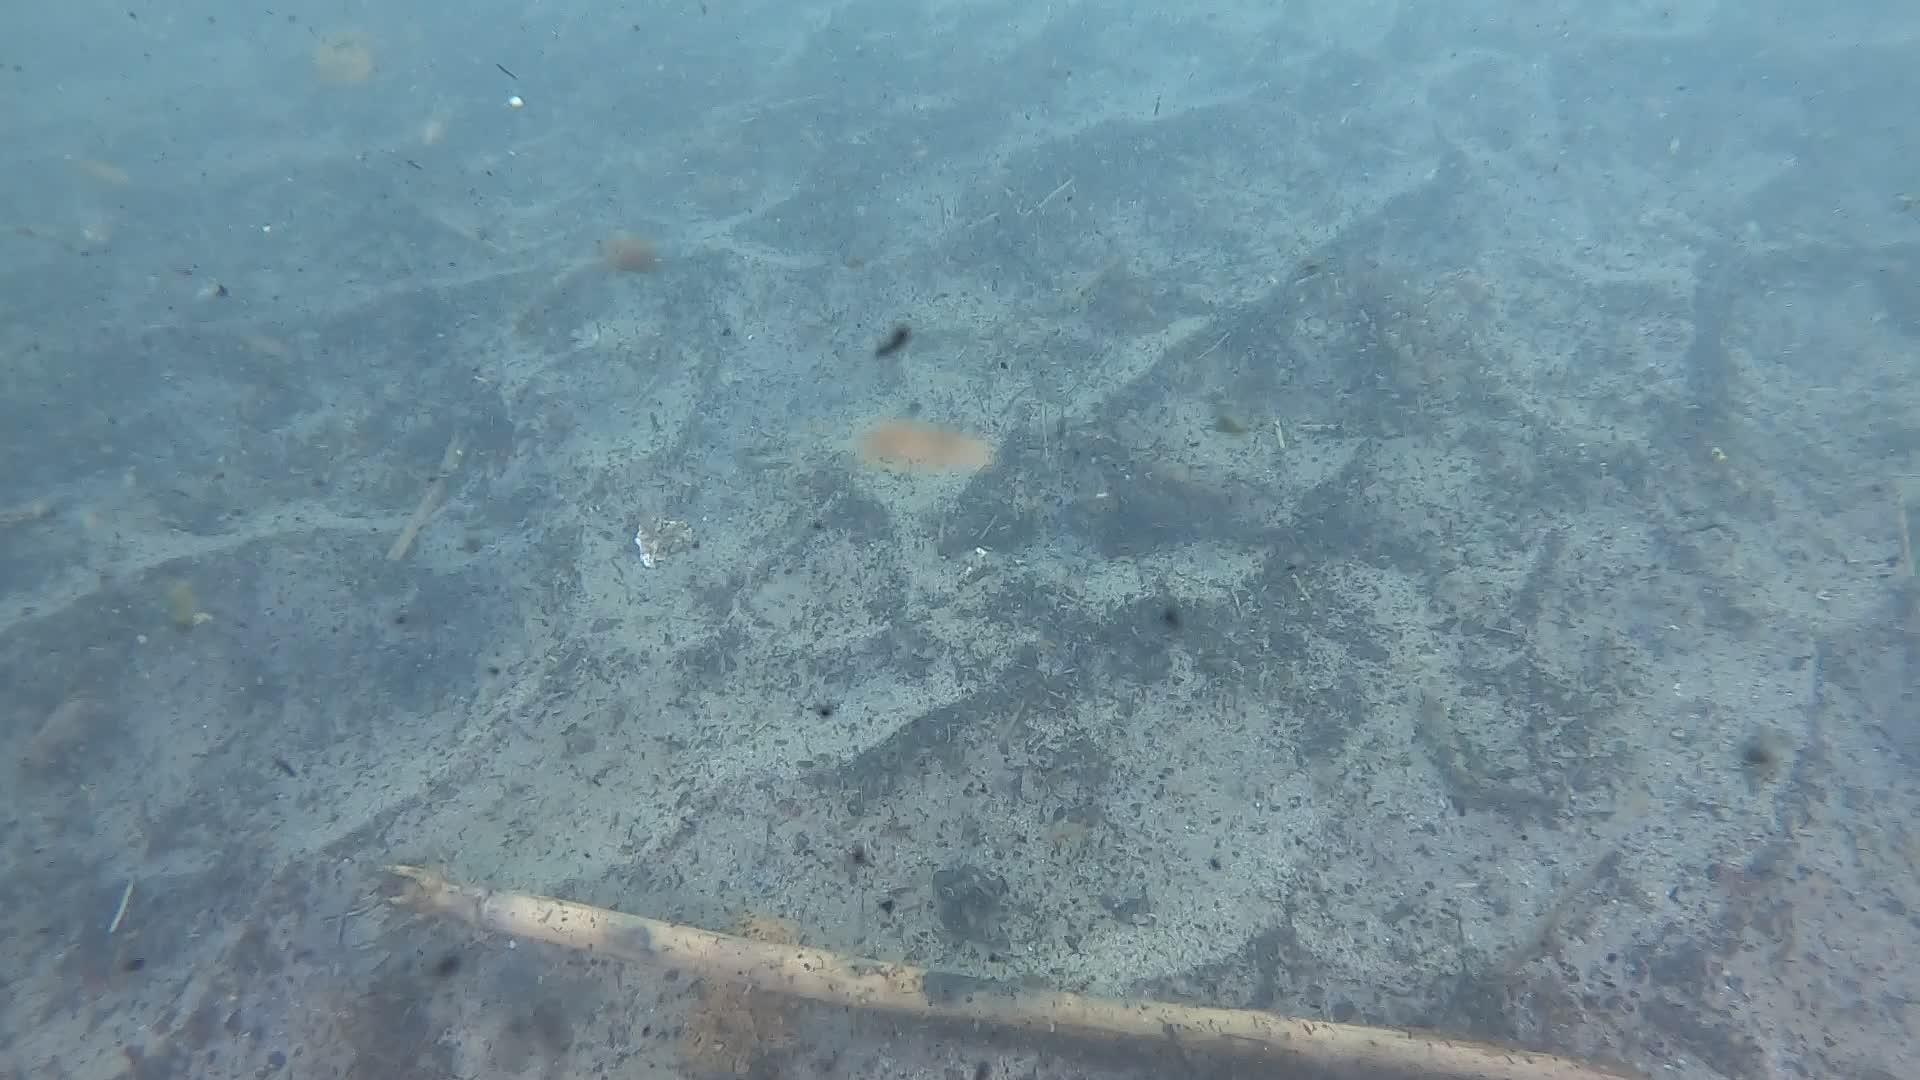wood: (372, 855, 1650, 1080)
